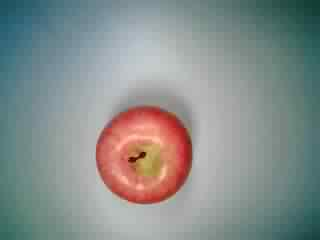apple: (93, 105, 198, 207)
